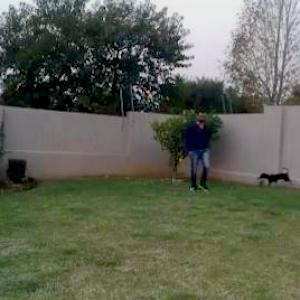follow: (184, 102, 212, 196)
